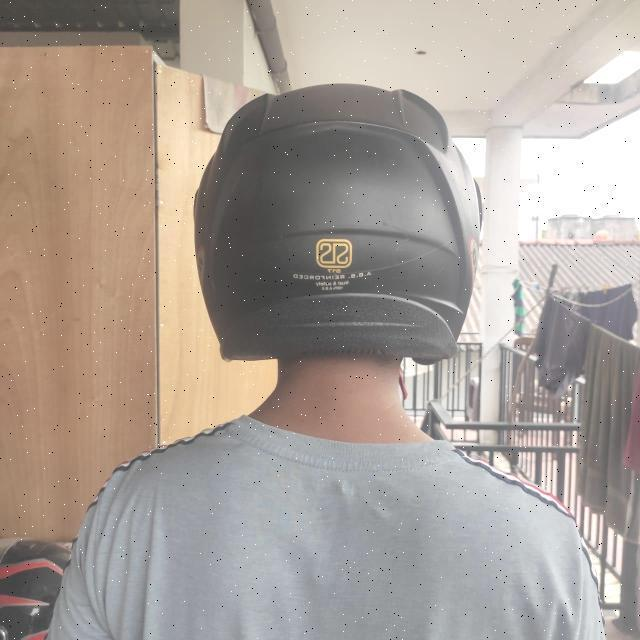helmet: (194, 80, 484, 366)
